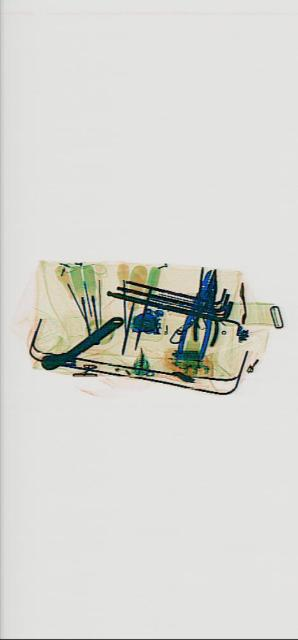Pliers: (174, 258, 220, 374), (190, 262, 224, 352)
Wrench: (38, 302, 123, 378)
